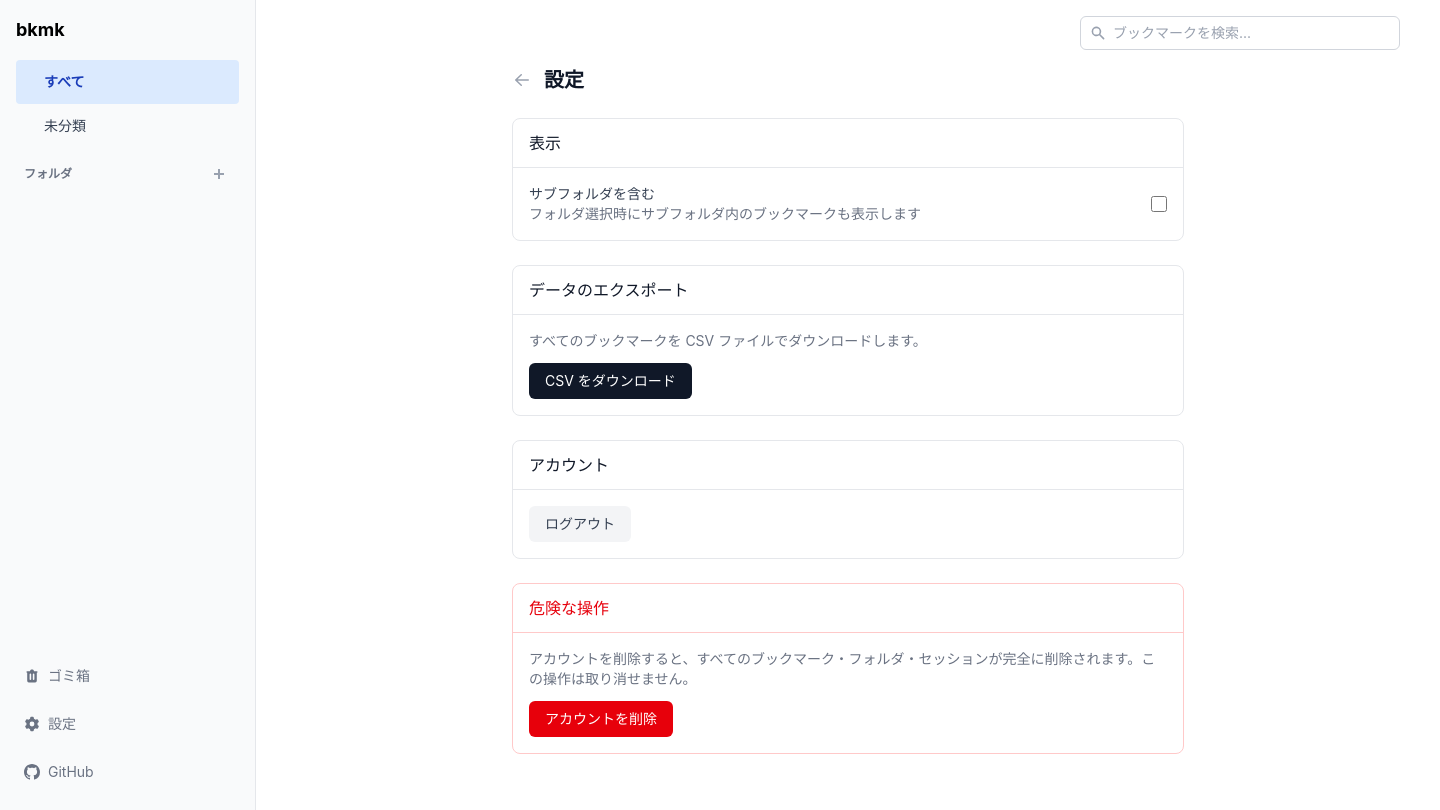
it: SettingsPage › アカウント削除ボタンをクリックすると確認ダイアログが表示される
The image size is (1440, 810).
Click the button "アカウントを削除": (601, 719) [529,701,673,737]
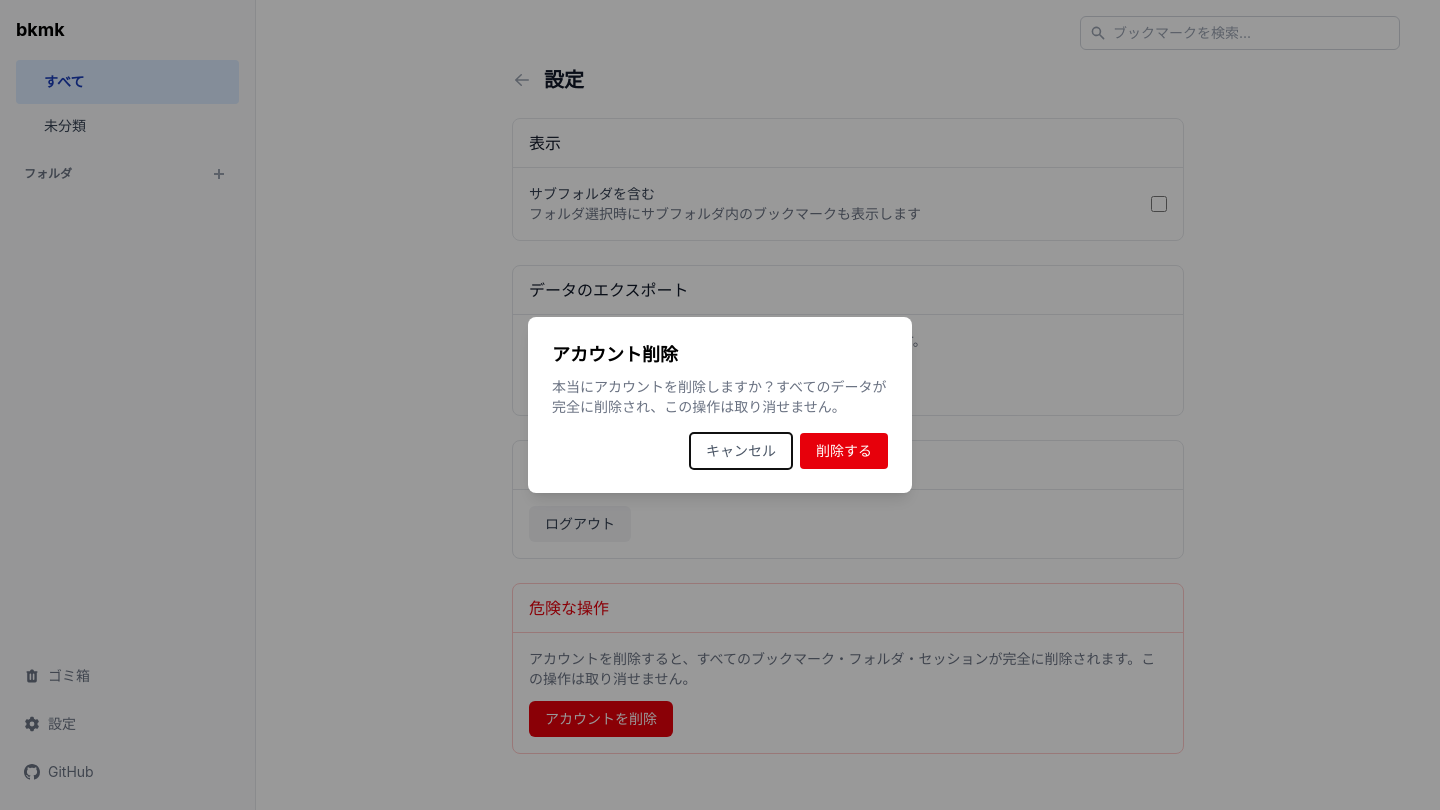
Expected: the heading "アカウント削除" is shown, [552,344,678,365]
Expected: the text "本当にアカウントを削除しますか？すべてのデータが完全に削除され、この操作は取り消せません。" is shown, [552,377,888,417]
Expected: the button "キャンセル" is shown, [690,433,792,469]
